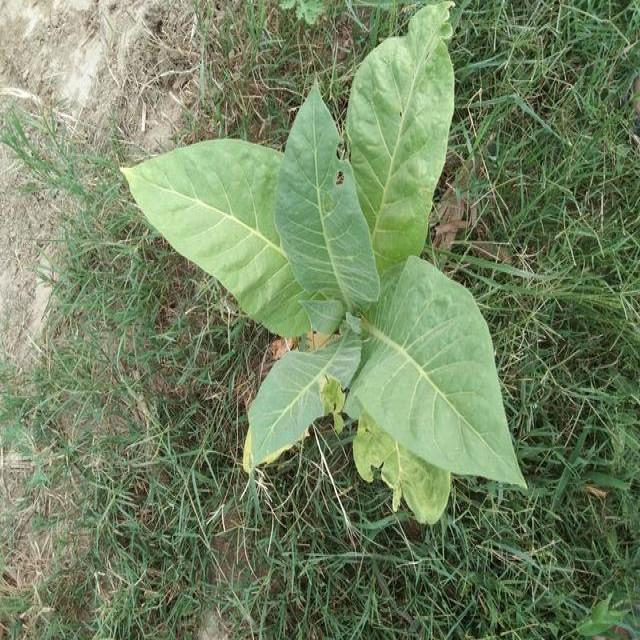crop: (115, 7, 525, 527)
